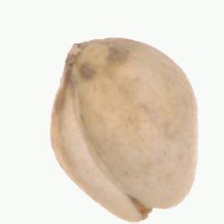L1: (112, 193, 180, 221), (53, 39, 86, 91)
L2: (49, 38, 199, 222)
